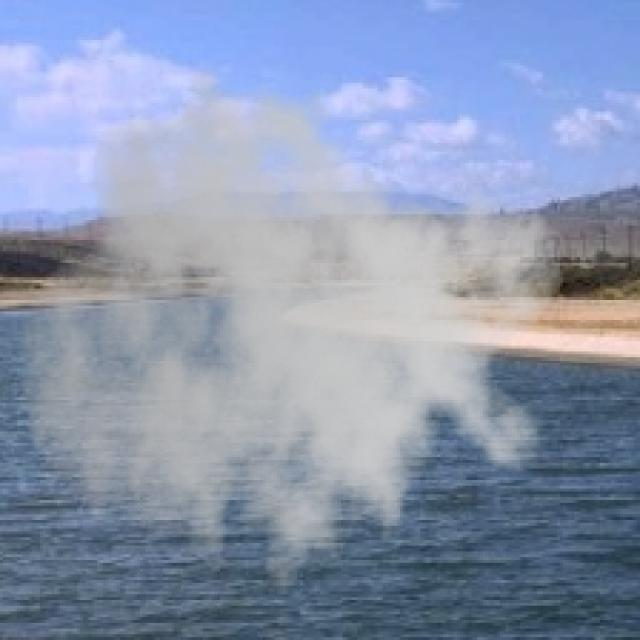smoke: (17, 54, 566, 623)
